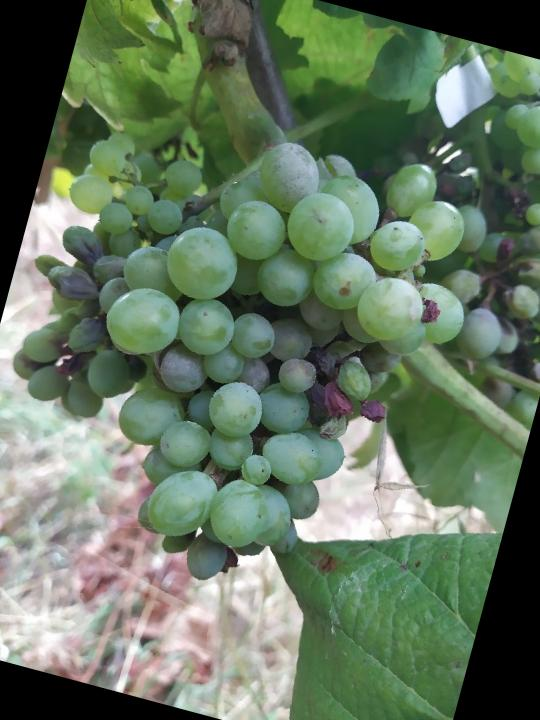grape: (0, 70, 506, 635)
